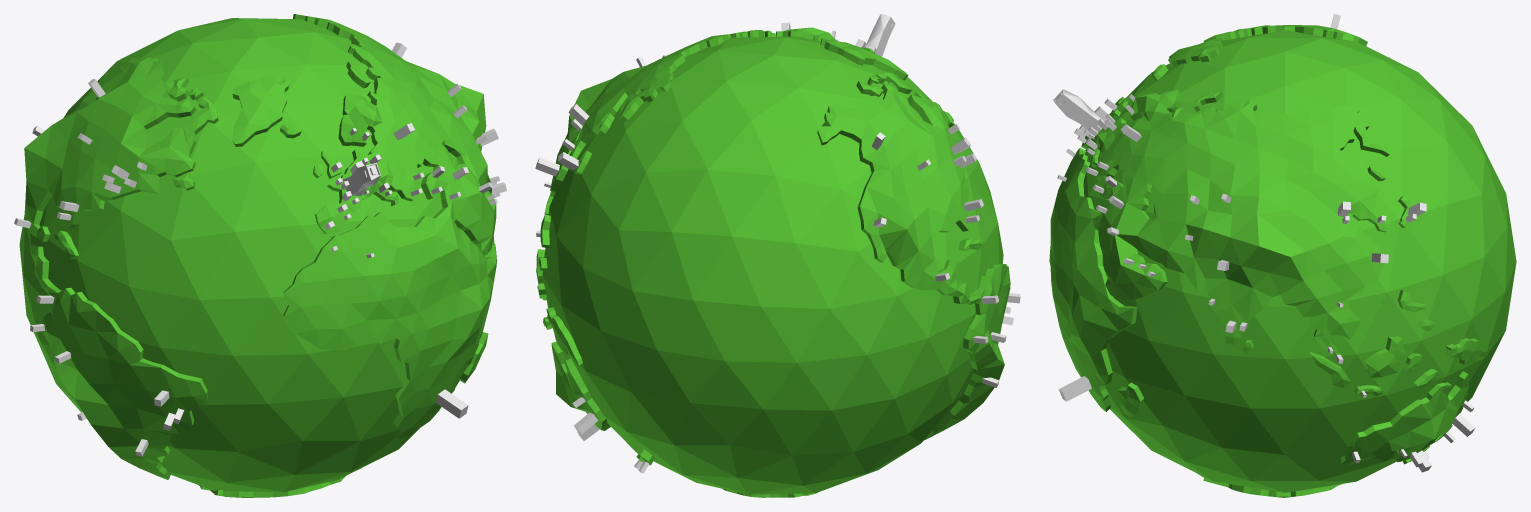
File: Mesh_Earth.fbx
3 views of the same model, side by side, from view 1: azimuth 30°, elevation 25°; view 2: azimuth 150°, elevation 25°; view 3: azimuth 270°, elevation 25° (orthographic). The views are drawn at different scales.
Visible parts, largest first — view 1: Earth, batiment; view 2: Earth, batiment; view 3: Earth, batiment.
Part boxes in pixels (left/top/right/bottom): Earth: left=19, top=14, right=496, bottom=497; batiment: left=14, top=42, right=506, bottom=456; Earth: left=536, top=27, right=1010, bottom=497; batiment: left=535, top=14, right=1020, bottom=473; Earth: left=1049, top=25, right=1516, bottom=497; batiment: left=1053, top=14, right=1475, bottom=472.
Bounding box in the file's own units: 231 × 218 × 218.
